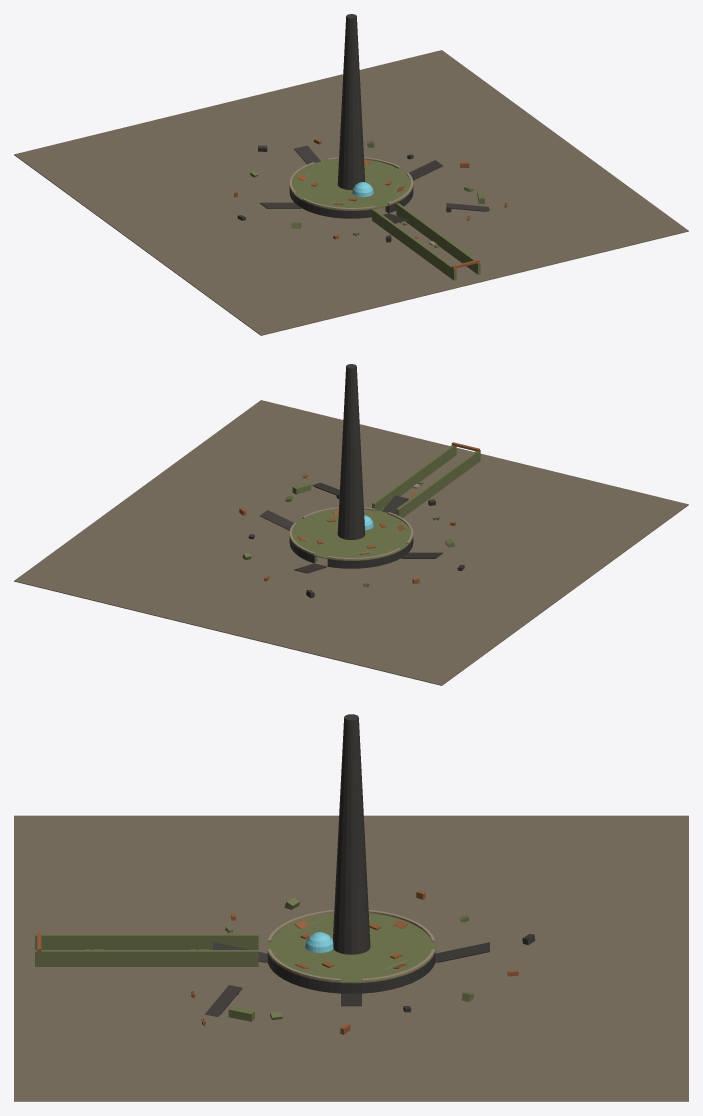
File: greybox.glb
3 views of the same model, one above another, from view 1: azimuth 30°, elevation 25°; view 2: azimuth 150°, elevation 25°; view 3: azimuth 270°, elevation 25° (orthographic). The views are drawn at different scales.
Visible parts, largest first — view 1: GND_Wasteland, TWR_Shaft, APP_Wall_L, APP_Wall_R; view 2: GND_Wasteland, TWR_Shaft, APP_Wall_L, APP_Wall_R; view 3: GND_Wasteland, TWR_Shaft, APP_Wall_R, APP_Wall_L.
Part boxes in pixels (x1,y1,x2,y2): GND_Wasteland: [14, 50, 688, 335]; TWR_Shaft: [337, 14, 365, 189]; APP_Wall_L: [372, 209, 456, 280]; APP_Wall_R: [396, 203, 480, 274]; GND_Wasteland: [14, 400, 688, 685]; TWR_Shaft: [337, 364, 365, 539]; APP_Wall_L: [396, 450, 480, 517]; APP_Wall_R: [372, 445, 456, 510]; GND_Wasteland: [14, 815, 688, 1101]; TWR_Shaft: [333, 714, 370, 954]; APP_Wall_R: [35, 950, 258, 966]; APP_Wall_L: [35, 934, 258, 949].
Bounding box in the file's own units: 320 × 128 × 320.
